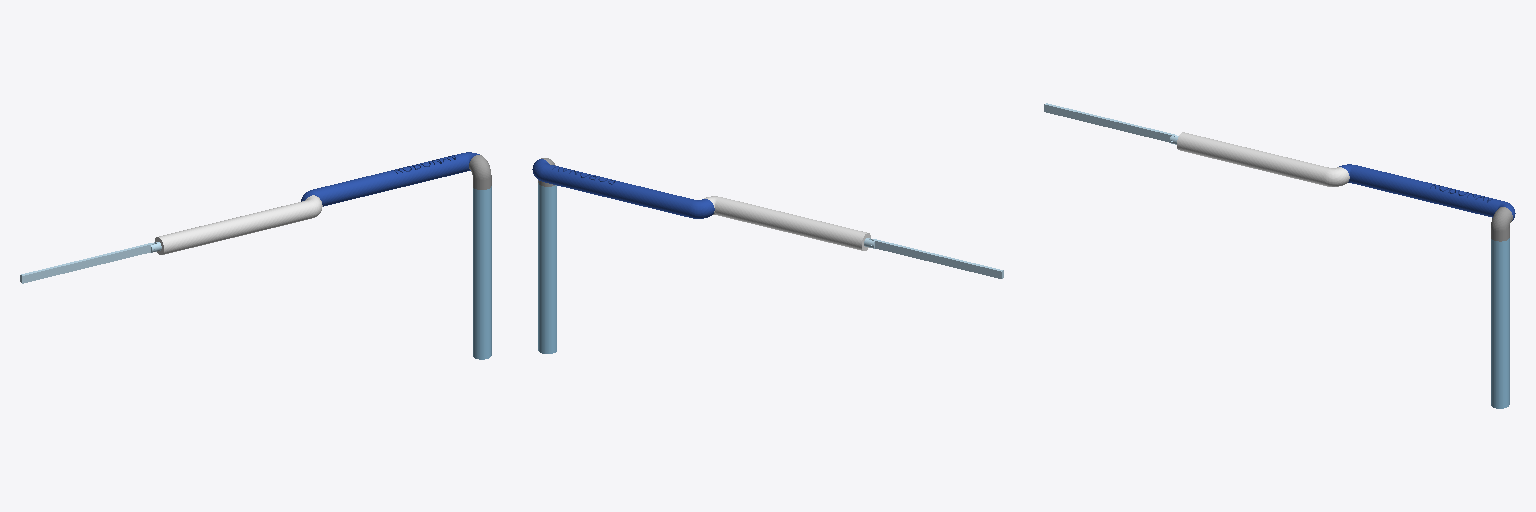
URDF robot description (walli_arm_v2_block):
<robot name="walli_arm_v2_block">
  <link name="spine">
    <visual>
      <origin xyz="0 0 0" rpy="0 -0 0" />
      <geometry>
        <mesh filename="package://urc_arm_models/urdf/walli_arm_v2_block/spine_visual.stl" />
      </geometry>
      <material name="spine_material">
        <color rgba="0.61568627450980395466 0.81176470588235294379 0.92941176470588238168 1.0" />
      </material>
    </visual>
    <collision>
      <origin xyz="0 0 0" rpy="0 -0 0" />
      <geometry>
        <mesh filename="package://urc_arm_models/urdf/walli_arm_v2_block/spine_collision.stl" />
      </geometry>
    </collision>
    <inertial>
      <origin xyz="-1.330888273577617195e-7 -5.5486658295274850429e-7 0.24999999999999997224"
        rpy="0 0 0" />
      <mass value="1.6214639331119933274" />
      <inertia ixx="0.034042024524271491392" ixy="0" ixz="0" iyy="0.034042024524271463637"
        iyz="5.5529950765765466971e-7" izz="0.00052305183554326659112" />
    </inertial>
  </link>

  <link name="base_rotator">
    <visual>
      <origin xyz="0 0 0" rpy="0 -0 0" />
      <geometry>
        <mesh filename="package://urc_arm_models/urdf/walli_arm_v2_block/base_rotator_visual.stl" />
      </geometry>
      <material name="base_rotator_material">
        <color rgba="0.64705882352941179736 0.64705882352941179736 0.64705882352941179736 1.0" />
      </material>
    </visual>
    <collision>
      <origin xyz="0 0 0" rpy="0 -0 0" />
      <geometry>
        <mesh filename="package://urc_arm_models/urdf/walli_arm_v2_block/base_rotator_collision.stl" />
      </geometry>
    </collision>
    <inertial>
      <origin xyz="-9.9899738559926605748e-7 -0.0029609471937182443683 -0.035099557125059188678"
        rpy="0 0 0" />
      <mass value="0.22667490716698604492" />
      <inertia ixx="0.00013369789091196960878" ixy="-2.1387000637817082066e-7"
        ixz="2.4875525770932625011e-7" iyy="0.00013289289864452238986"
        iyz="-1.6505592785310325315e-05" izz="7.3925783821373577996e-05" />
    </inertial>
  </link>

  <link name="upper_arm">
    <visual>
      <origin xyz="0 0 0" rpy="0 -0 0" />
      <geometry>
        <mesh filename="package://urc_arm_models/urdf/walli_arm_v2_block/upper_arm_visual.stl" />
      </geometry>
      <material name="upper_arm_material">
        <color rgba="0.2313725490196078538 0.38039215686274507888 0.7058823529411765163 1.0" />
      </material>
    </visual>
    <collision>
      <origin xyz="0 0 0" rpy="0 -0 0" />
      <geometry>
        <mesh filename="package://urc_arm_models/urdf/walli_arm_v2_block/upper_arm_collision.stl" />
      </geometry>
    </collision>
    <inertial>
      <origin xyz="-0.25689153967076888696 -0.00027609927457239447079 -0.024622788442265588355"
        rpy="0 0 0" />
      <mass value="1.7263516600886652519" />
      <inertia ixx="0.00055794942568172616309" ixy="5.1576587736523914142e-05"
        ixz="-1.5480980676617979869e-06" iyy="0.042474690467664659443"
        iyz="-3.5931774854711848681e-07" izz="0.042462031054011709075" />
    </inertial>
  </link>

  <link name="fore_arm">
    <visual>
      <origin xyz="0 0 0" rpy="0 -0 0" />
      <geometry>
        <mesh filename="package://urc_arm_models/urdf/walli_arm_v2_block/fore_arm_visual.stl" />
      </geometry>
      <material name="fore_arm_material">
        <color rgba="0.91764705882352937127 0.91764705882352937127 0.91764705882352937127 1.0" />
      </material>
    </visual>
    <collision>
      <origin xyz="0 0 0" rpy="0 -0 0" />
      <geometry>
        <mesh filename="package://urc_arm_models/urdf/walli_arm_v2_block/fore_arm_collision.stl" />
      </geometry>
    </collision>
    <inertial>
      <origin xyz="-0.23542985086179346599 0 -0.024985985812430180908" rpy="0 0 0" />
      <mass value="1.6211338896432998524" />
      <inertia ixx="0.00052545979360403528239" ixy="4.3953937265002133034e-7"
        ixz="-0.00016089452036475483405" iyy="0.034042572926454593707"
        iyz="6.8690227468871433261e-7" izz="0.034040058502971697052" />
    </inertial>
  </link>

  <link name="ee_rotary">
    <visual>
      <origin xyz="0 0 0" rpy="0 -0 0" />
      <geometry>
        <mesh filename="package://urc_arm_models/urdf/walli_arm_v2_block/ee_rotary_visual.stl" />
      </geometry>
      <material name="ee_rotary_material">
        <color rgba="0.76862745098039220171 0.88627450980392152857 0.95294117647058818044 1.0" />
      </material>
    </visual>
    <collision>
      <origin xyz="0 0 0" rpy="0 -0 0" />
      <geometry>
        <mesh filename="package://urc_arm_models/urdf/walli_arm_v2_block/ee_rotary_collision.stl" />
      </geometry>
    </collision>
    <inertial>
      <origin xyz="1.6659429256252546994e-09 -4.302978640069454741e-09 -0.01223053512568728074"
        rpy="0 0 0" />
      <mass value="0.015313520957102715395" />
      <inertia ixx="1.7042886103040186637e-06" ixy="-2.7684127056336353449e-7"
        ixz="4.5144354512103926262e-7" iyy="1.9881244074213546235e-06"
        iyz="-5.1668124405953860544e-7" izz="1.3548659076095736502e-06" />
    </inertial>
  </link>

  <link name="ee_rod">
    <visual>
      <origin xyz="0 0 0" rpy="0 -0 0" />
      <geometry>
        <mesh filename="package://urc_arm_models/urdf/walli_arm_v2_block/ee_rod_visual.stl" />
      </geometry>
      <material name="ee_rod_material">
        <color rgba="0.76862745098039220171 0.88627450980392152857 0.95294117647058829146 1.0" />
      </material>
    </visual>
    <collision>
      <origin xyz="0 0 0" rpy="0 -0 0" />
      <geometry>
        <mesh filename="package://urc_arm_models/urdf/walli_arm_v2_block/ee_rod_collision.stl" />
      </geometry>
    </collision>
    <inertial>
      <origin xyz="-0.19791750955863873784 0.0014564392373894730071 -0.0050000000000000001041"
        rpy="0 0 0" />
      <mass value="0.15046122663868877201" />
      <inertia ixx="7.8189932130317085324e-06" ixy="1.8148134513505674458e-7"
        ixz="-1.778843404383153901e-7" iyy="0.0021145294059918199985"
        iyz="-1.1886571152007033413e-7" izz="0.0021198407120942065231" />
    </inertial>
  </link>

  <link name="ee">
    <inertial>
      <origin xyz="0 0 0" rpy="0 0 0" />
      <mass value="1e-9" />
      <inertia ixx="0" ixy="0" ixz="0" iyy="0" iyz="0" izz="0" />
    </inertial>
  </link>
  <joint name="ee_frame" type="fixed">
    <origin xyz="1.0191999999999998838 -0.55394356076261075383 -0.0050000000000001111264"
      rpy="-1.570796326794896558 8.3605634952174458232e-7 -1.2325951644084604355e-7" />
    <parent link="ee_rod" />
    <child link="ee" />
    <axis xyz="0 0 0" />
  </joint>

  <joint name="ee_pitch_joint" type="revolute">
    <origin xyz="-0.0049999999999999940326 -1.1102230246251565404e-7 -0.022499999999999409361"
      rpy="1.2190357131458368901e-7 -1.570796326794896336 0" />
    <parent link="ee_rotary" />
    <child link="ee_rod" />
    <axis xyz="0 0 1" />
    <limit effort="60" velocity="20" lower="-1.570796326794896558" upper="1.570796326794896558" />
    <joint_properties friction="0.0" />
  </joint>

  <joint name="ee_roll_jont" type="revolute">
    <origin xyz="-0.48539999999999505764 2.664535259100375697e-7 -0.025399999999999842842"
      rpy="-3.141592653589793116 -1.5707963267948961139 0" />
    <parent link="fore_arm" />
    <child link="ee_rotary" />
    <axis xyz="0 0 1" />
    <limit effort="60" velocity="20" />
    <joint_properties friction="0.0" />
  </joint>

  <joint name="fore_arm_joint" type="revolute">
    <origin xyz="-0.51080000000000091998 1.1102230246251565404e-7 1.0061396160665481148e-7"
      rpy="3.1415926535897926719 7.0130752066470031592e-7 6.6613381477508840223e-7" />
    <parent link="upper_arm" />
    <child link="fore_arm" />
    <axis xyz="0 0 1" />
    <limit effort="60" velocity="20" lower="-3.141592653589793116" upper="3.141592653589793116" />
    <joint_properties friction="0.0" />
  </joint>

  <joint name="upper_arm_joint" type="revolute">
    <origin xyz="-5.3445147205013017124e-7 -0.02539999999999998162 -0.055399999999999671729"
      rpy="-1.570796326794896336 -1.1102230246251629499e-7 -1.6081226496766935464e-7" />
    <parent link="base_rotator" />
    <child link="upper_arm" />
    <axis xyz="0 0 1" />
    <limit effort="60" velocity="20" lower="-3.8397243543875250182" upper="1.2217304763960306069" />
    <joint_properties friction="0.0" />
  </joint>

  <joint name="base_yaw_joint" type="revolute">
    <origin xyz="8.2783883572361213404e-7 -1.1099780952653262815e-7 0.49999999999999994449"
      rpy="-3.1415926535897922278 -3.2047474274603604595e-7 1.4490111207388140385e-7" />
    <parent link="spine" />
    <child link="base_rotator" />
    <axis xyz="0 0 1" />
    <limit effort="60" velocity="20" lower="-3.141592653589793116" upper="3.141592653589793116" />
    <joint_properties friction="0.0" />
  </joint>


</robot>

--- What the picture shows (computed from the rendered views, not written in the file) ---
The picture shows the robot from 3 angles, left to right: view 1: azimuth 30°, elevation 25°; view 2: azimuth 150°, elevation 25°; view 3: azimuth 330°, elevation 25°; orthographic projection.
Model walli_arm_v2_block with 7 links and 6 joints (5 revolute, 1 fixed), rooted at spine, posed all joints at 0.
Links seen in each view (by area): view 1: spine, fore_arm, upper_arm, ee_rod, base_rotator; view 2: upper_arm, spine, fore_arm, ee_rod; view 3: fore_arm, spine, upper_arm, ee_rod, base_rotator.
Boxes of the visible links, box(x1,y1,x2,y2) form: spine: box(473, 186, 491, 359); fore_arm: box(155, 195, 322, 254); upper_arm: box(301, 152, 479, 206); ee_rod: box(20, 243, 153, 283); base_rotator: box(469, 155, 491, 189); upper_arm: box(532, 159, 714, 218); spine: box(538, 183, 556, 353); fore_arm: box(704, 196, 870, 250); ee_rod: box(872, 239, 1003, 278); fore_arm: box(1177, 132, 1349, 186); spine: box(1491, 238, 1509, 408); upper_arm: box(1339, 164, 1515, 220); ee_rod: box(1044, 103, 1177, 142); base_rotator: box(1491, 207, 1512, 241).
Size in the robot's own frame: 1.45 by 0.1016 by 0.5808 metres.
Meshes: 6 distinct files referenced, 6 mesh visuals loaded (6 binary STL).
